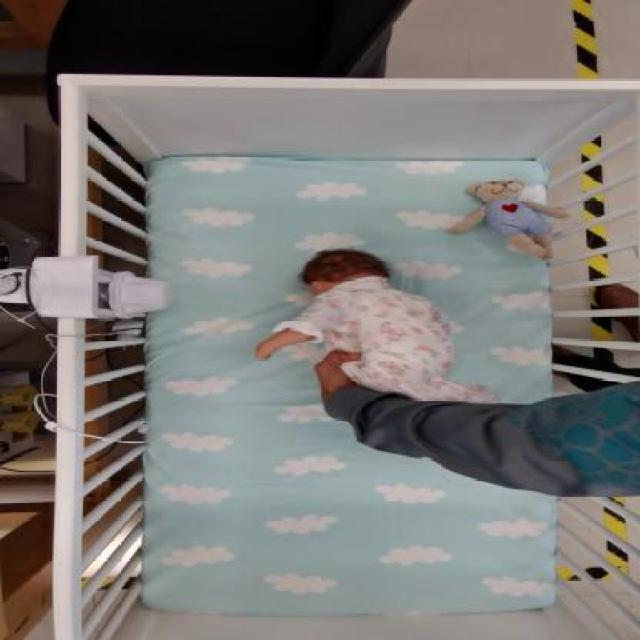baby: (255, 245, 494, 427)
